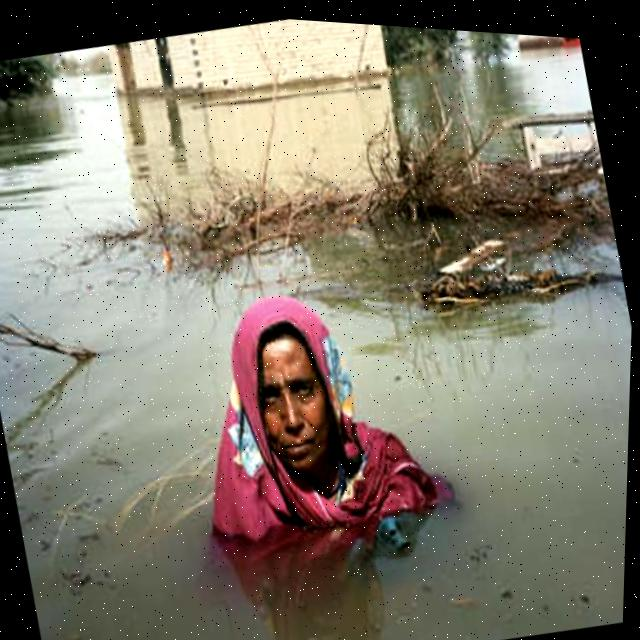civilian: (134, 229, 475, 635)
